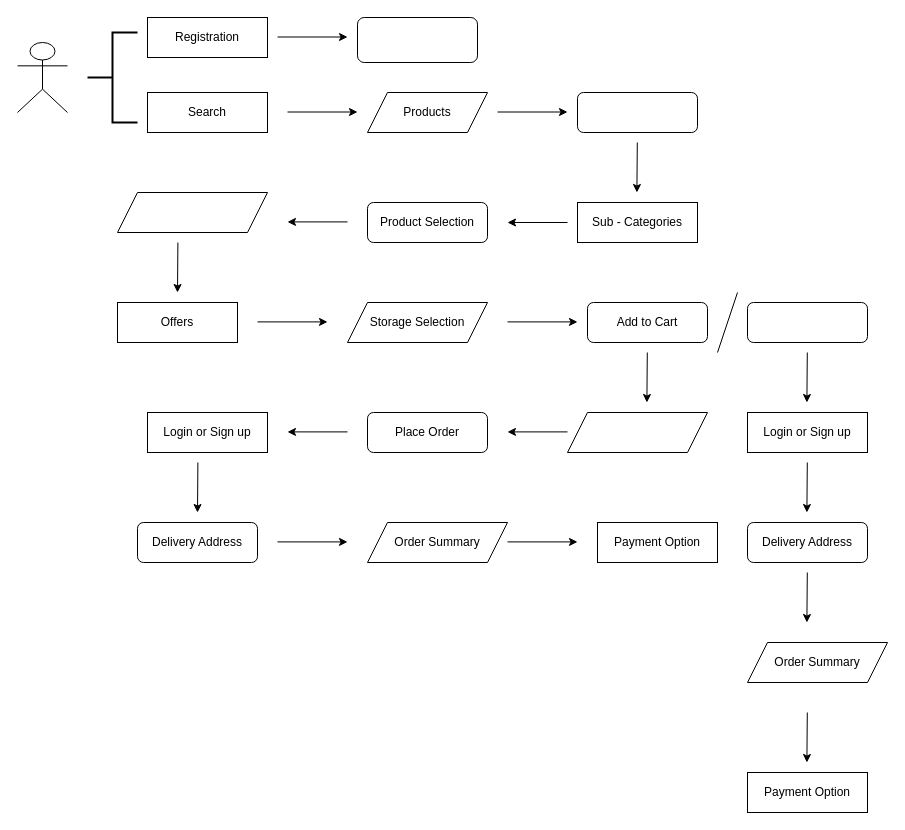
The diagram is 905 pixels wide and 830 high, and some of its shapes have lost their labels. Each missing label, with the centre of its shape:
"Buy Now" belongs at [807,322].
"Categories" belongs at [637,112].
"Login" belongs at [417,39].
"Price Details" belongs at [637,432].
"Product Specification" belongs at [192,212].
"User" belongs at [42,77].
